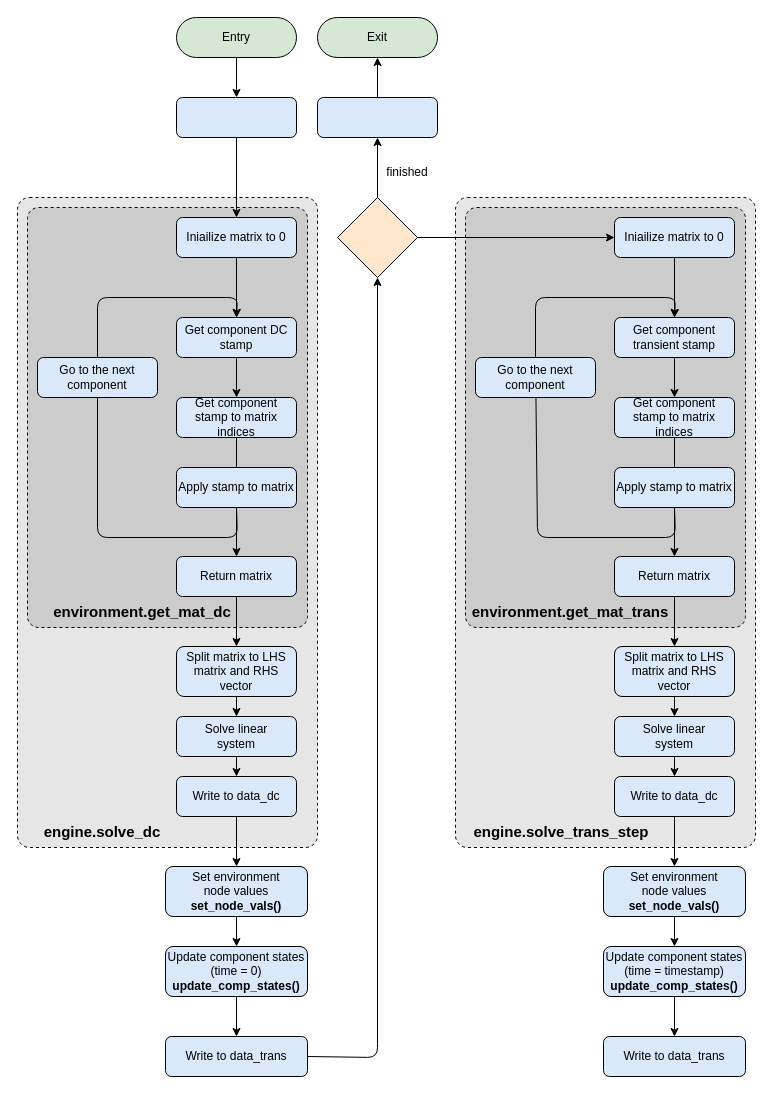
Some shapes in this 773 by 1094 pixel diagram are drawn without their labels. Each missing label, with the centre of its shape:
"Add timestamps to data_trans" goes at point (377, 117).
"foreach timestep" goes at point (377, 237).
"Initialize timestamps" goes at point (236, 117).
